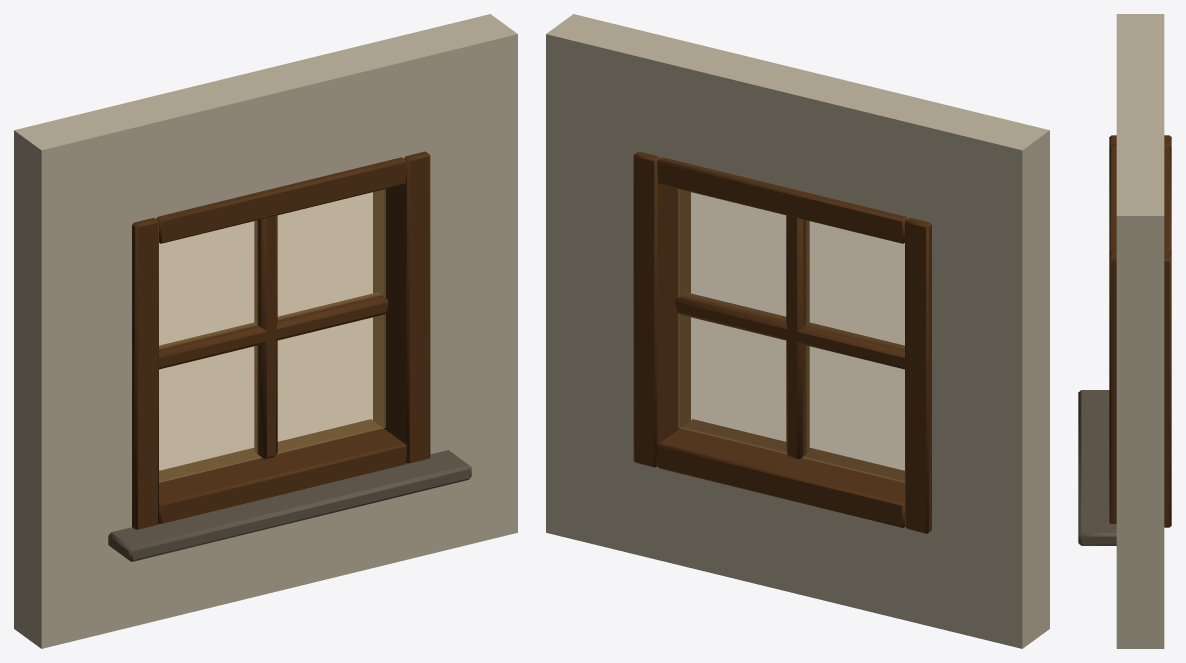
File: wand_fenster_1x1.glb
3 views of the same model, side by side, from view 1: azimuth 30°, elevation 25°; view 2: azimuth 150°, elevation 25°; view 3: azimuth 270°, elevation 25° (orthographic). The views are drawn at different scales.
Visible parts, largest first — view 1: wand_fenster_1x1; view 2: wand_fenster_1x1; view 3: wand_fenster_1x1.
Boxes of the visible parts, x1,y1,x2,y2 form: wand_fenster_1x1: [14, 14, 517, 648]; wand_fenster_1x1: [546, 14, 1049, 648]; wand_fenster_1x1: [1078, 14, 1171, 648].
Bounding box in the file's own units: 1 × 1 × 0.195.
